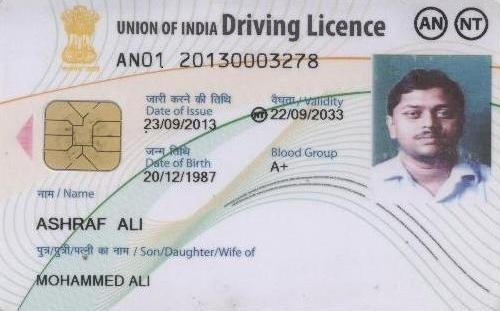drivinglicence: (2, 4, 498, 308)
